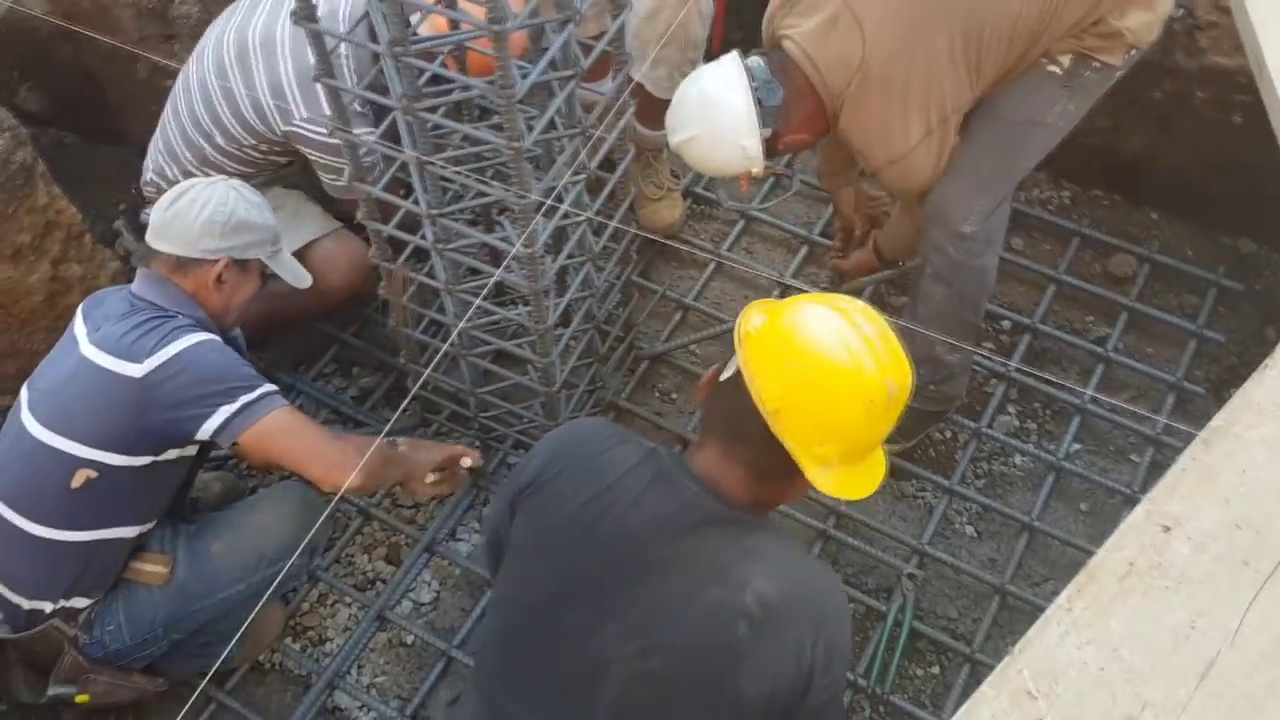helmet: (735, 292, 915, 502), (663, 48, 766, 183), (413, 0, 529, 74)
helmet-off: (141, 174, 310, 333)
helmet-on: (670, 284, 913, 526), (663, 44, 838, 187), (359, 0, 533, 82)
person: (666, 1, 1178, 453), (2, 176, 480, 633), (481, 282, 913, 629), (145, 2, 529, 326)
